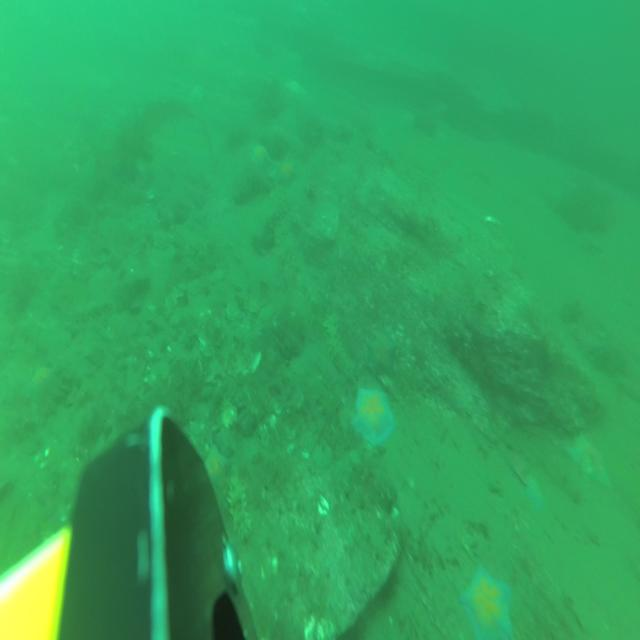holothurian: (324, 312, 356, 383), (228, 472, 252, 542), (74, 297, 112, 322)
scallop: (225, 300, 240, 322)
starfish: (460, 561, 515, 640), (351, 386, 395, 451), (567, 434, 611, 492), (366, 328, 397, 378), (202, 443, 229, 489), (28, 367, 58, 403), (251, 142, 272, 174), (526, 474, 544, 510), (279, 161, 297, 185)
